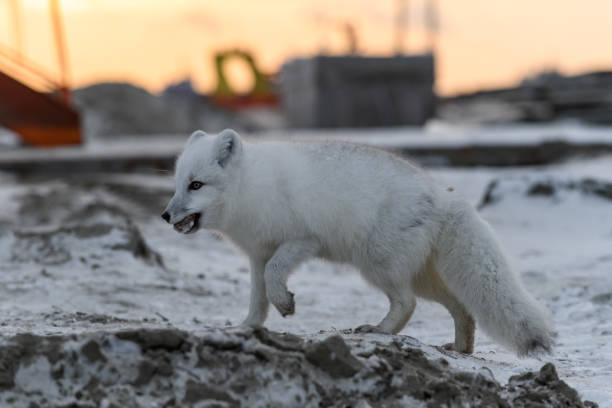arcticfox: (152, 136, 247, 259)
